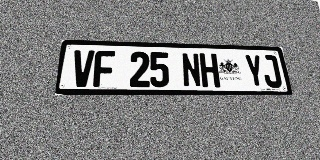2: (130, 51, 150, 87)
5: (150, 52, 170, 87)
F: (93, 50, 115, 87)
H: (199, 53, 220, 87)
J: (260, 55, 283, 88)
N: (181, 53, 202, 87)
V: (71, 50, 95, 87)
Y: (244, 54, 266, 87)
